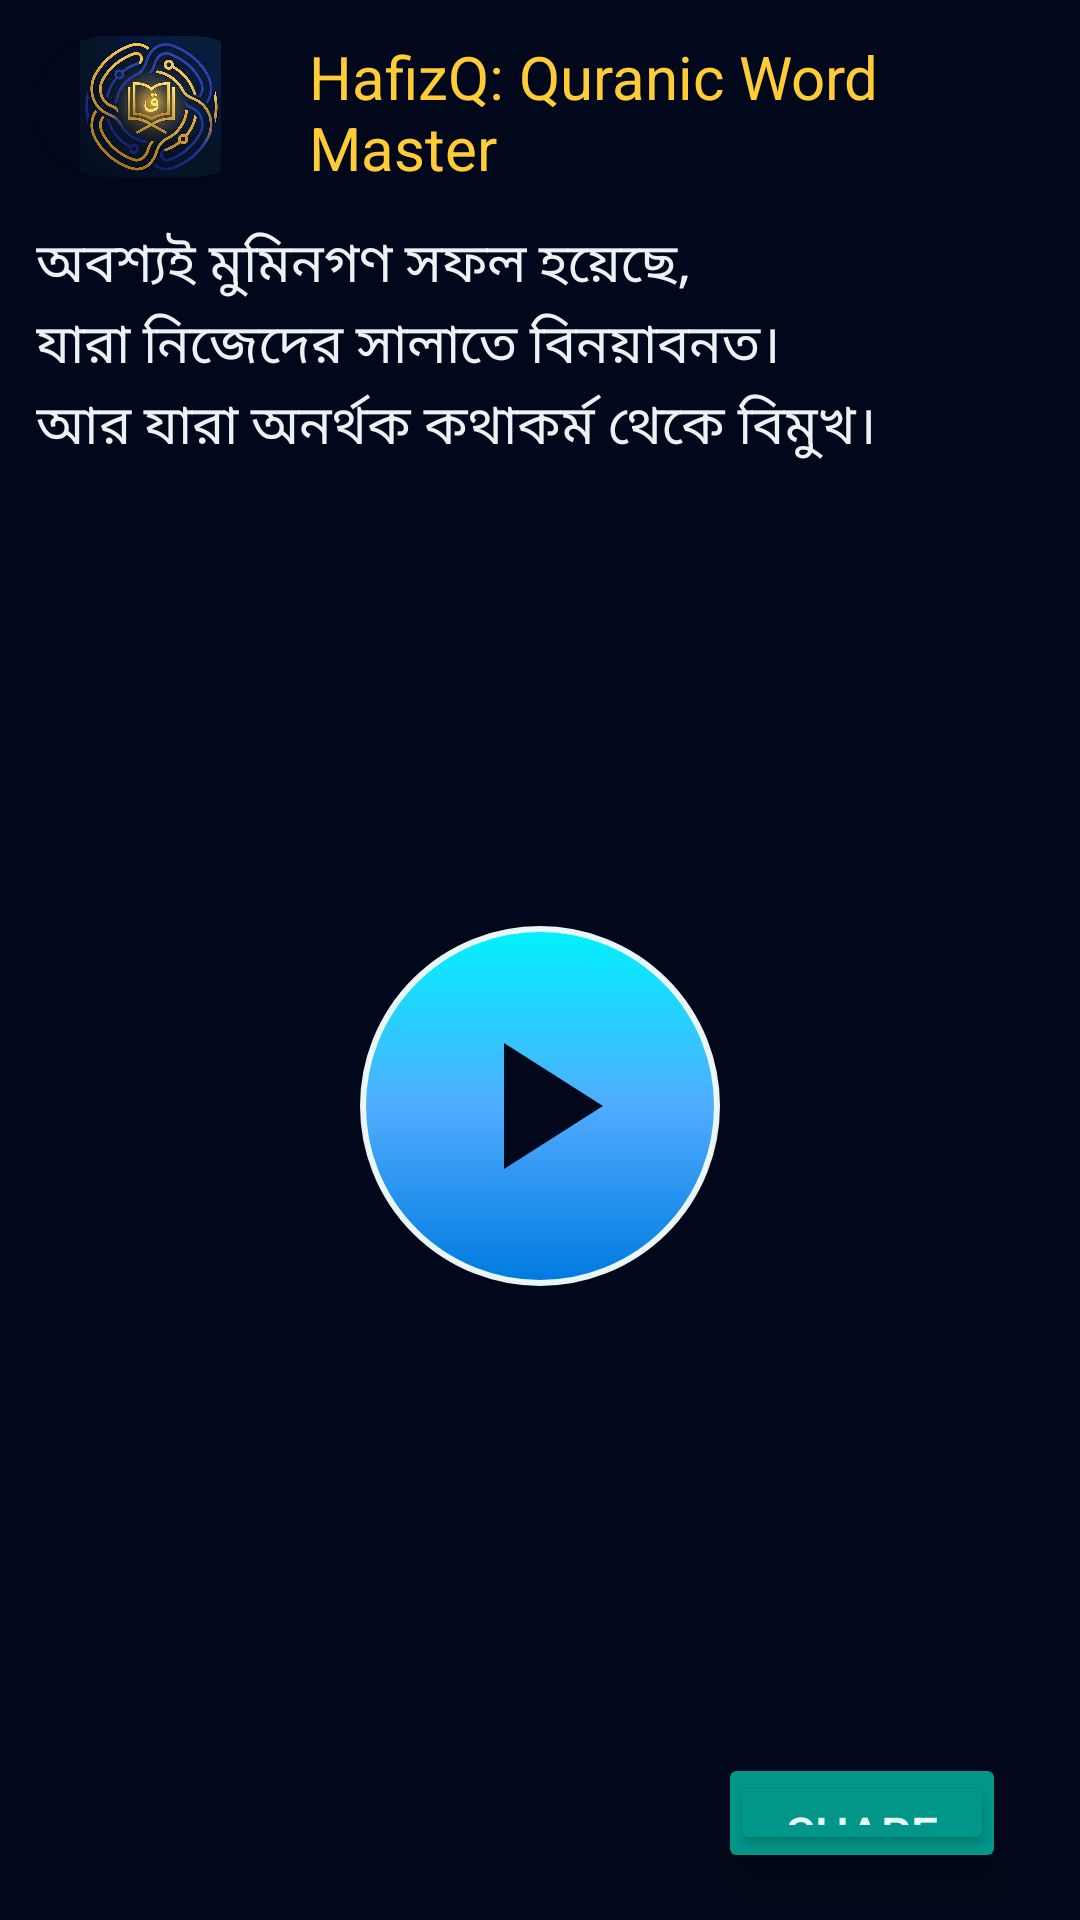

Point at icon controls on the screen. Image size 1080px x 1920px, points as [x,y].
play: [540,1106]
